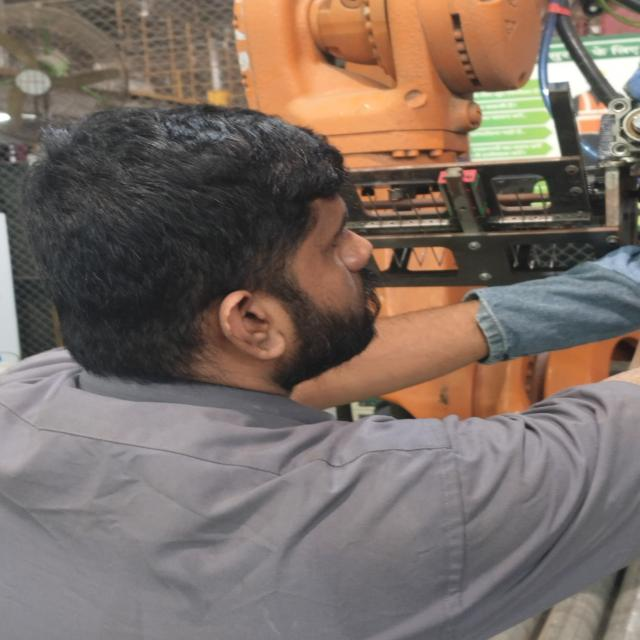Gloves-Detection: (471, 240, 640, 361)
